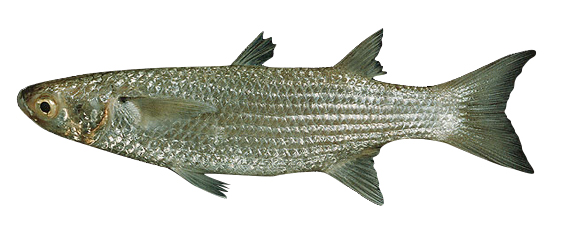fish: (17, 28, 536, 206)
